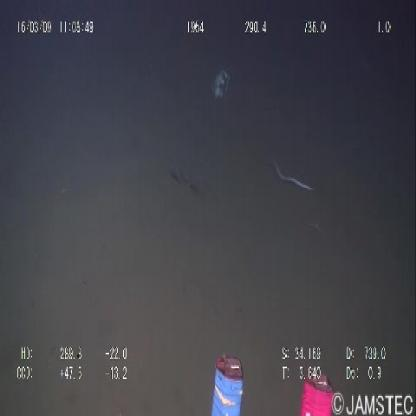Bio: (264, 145, 317, 202)
Rov: (206, 348, 336, 416)
Rác: (206, 57, 238, 108)
